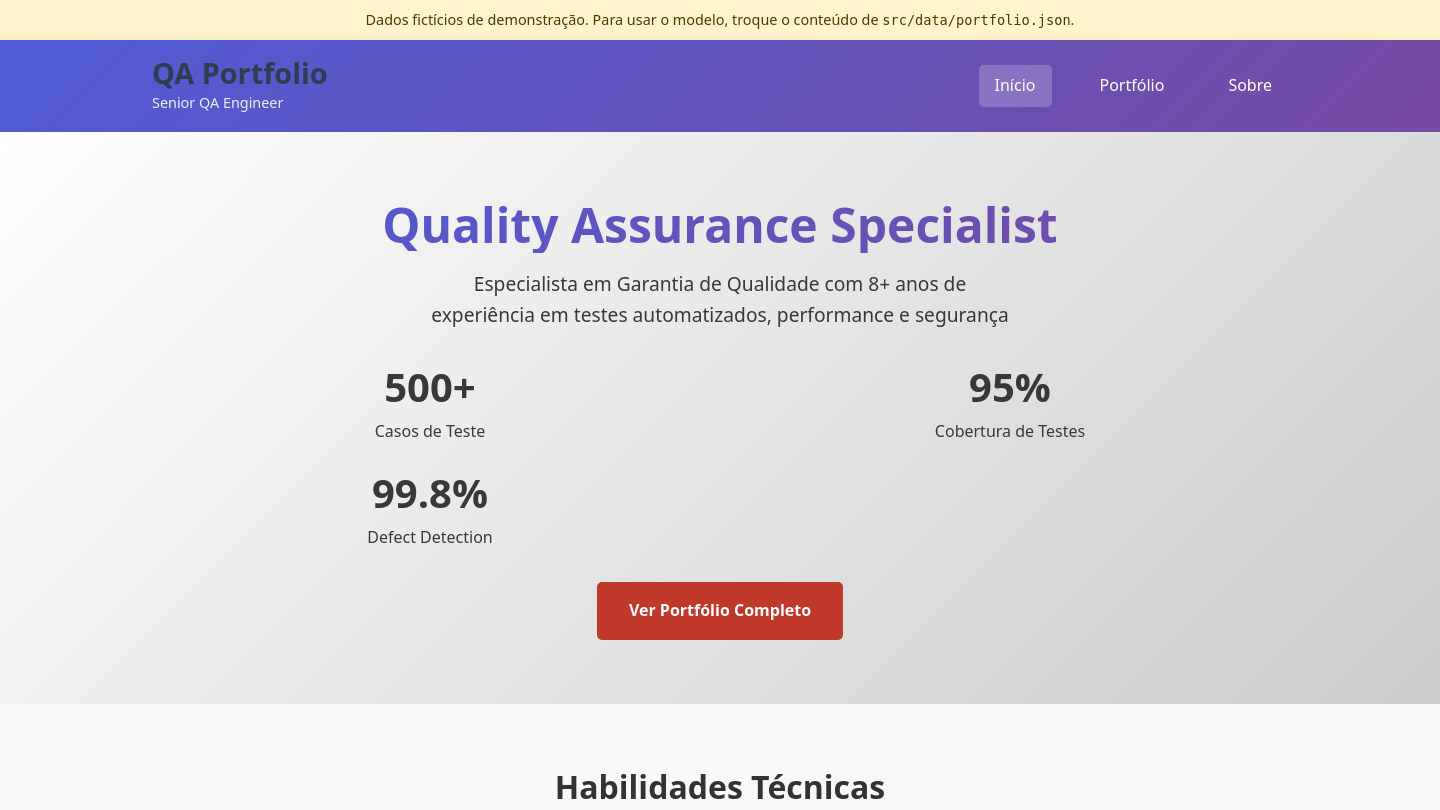
Test case: App routes › 002 AC-1: the header marks the current page and navigates
The image size is (1440, 810).
Expected: the link "Início" is shown, [979,65,1052,107]
Step 1. Click the link "Sobre" → {"x": 1250, "y": 85}, box [1228,74,1272,96]
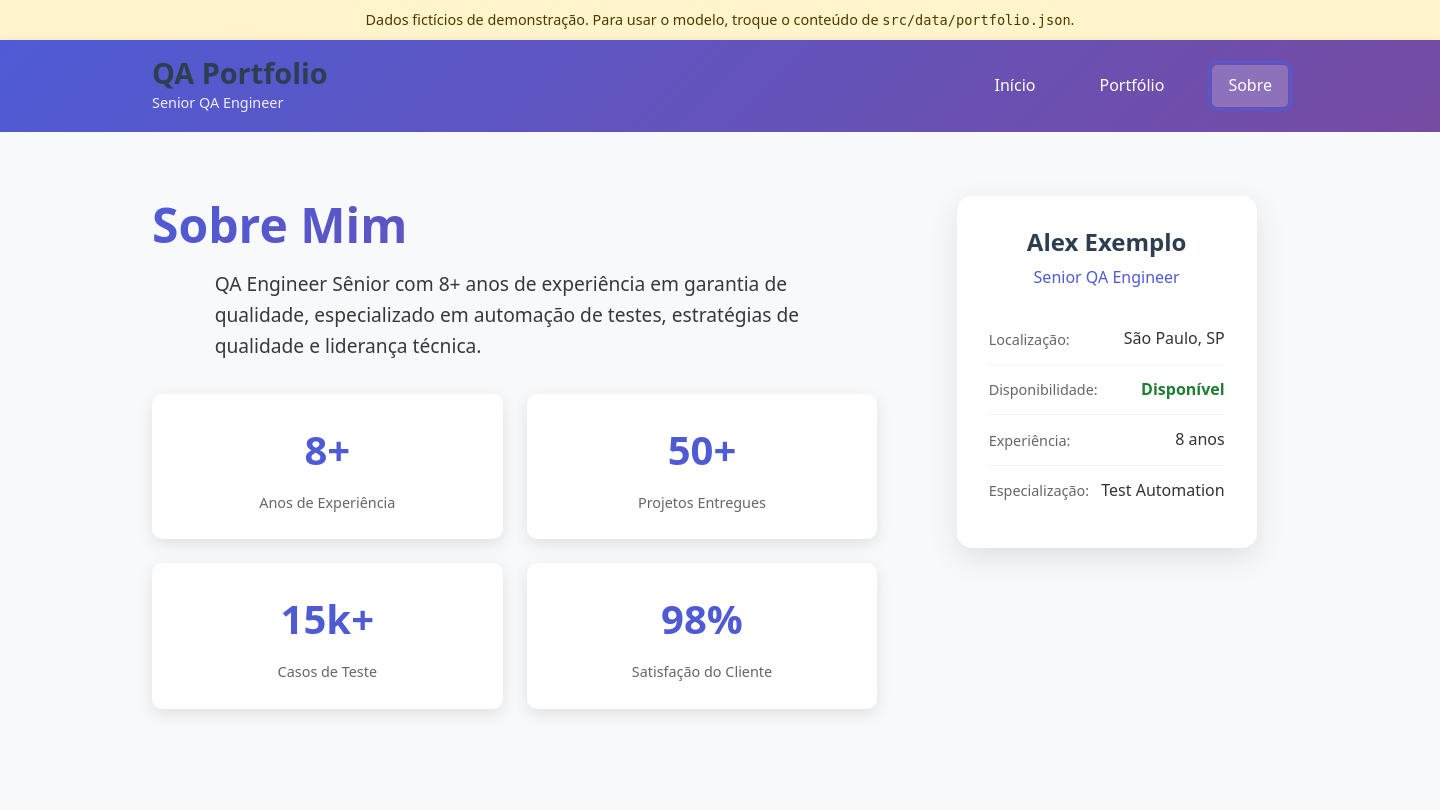
Expected: the link "Sobre" is shown, [1212,65,1288,107]
Expected: the heading "Sobre Mim" is shown, [152,196,877,254]
